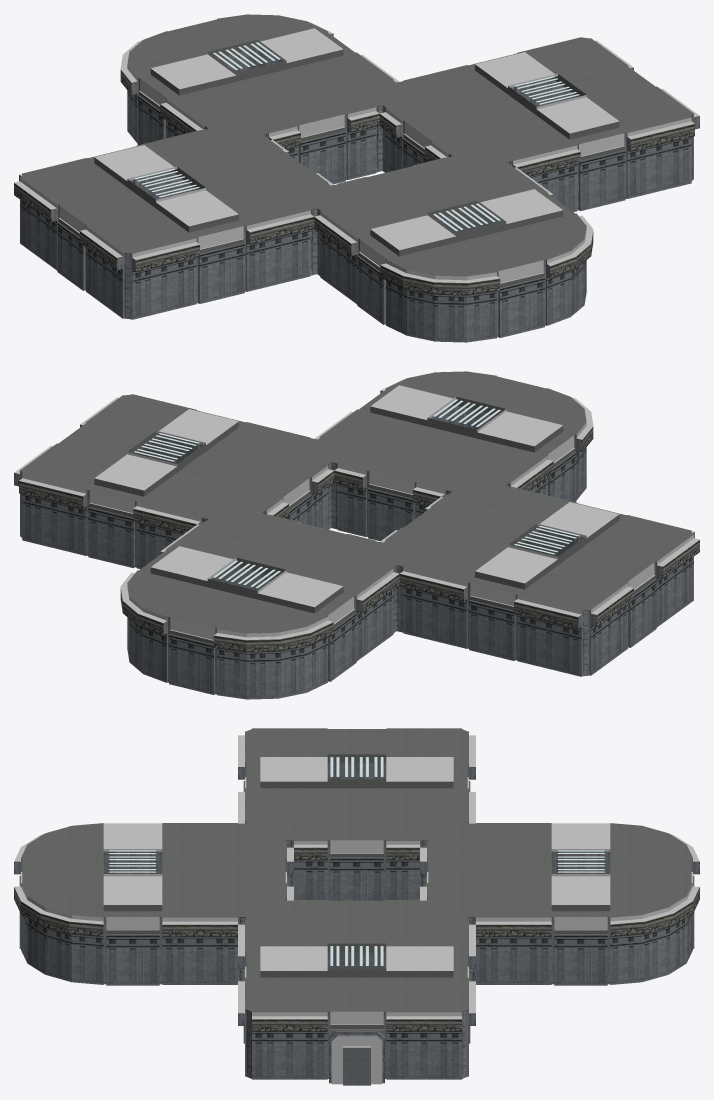
Rendered from poi_all_impl_bunker_warren_s01_r56_plusroom56_mesh_r56.fbx.
3 views of the same model, one above another, from view 1: azimuth 30°, elevation 25°; view 2: azimuth 150°, elevation 25°; view 3: azimuth 270°, elevation 25° (orthographic).
Parts seen in each view (by area): view 1: mesh_node; view 2: mesh_node; view 3: mesh_node.
Boxes of the visible parts, <box> form: mesh_node: <box>14,14,699,342</box>; mesh_node: <box>14,371,699,699</box>; mesh_node: <box>14,728,699,1085</box>.
Size of the model in its own units: 49.5 by 6 by 49.
